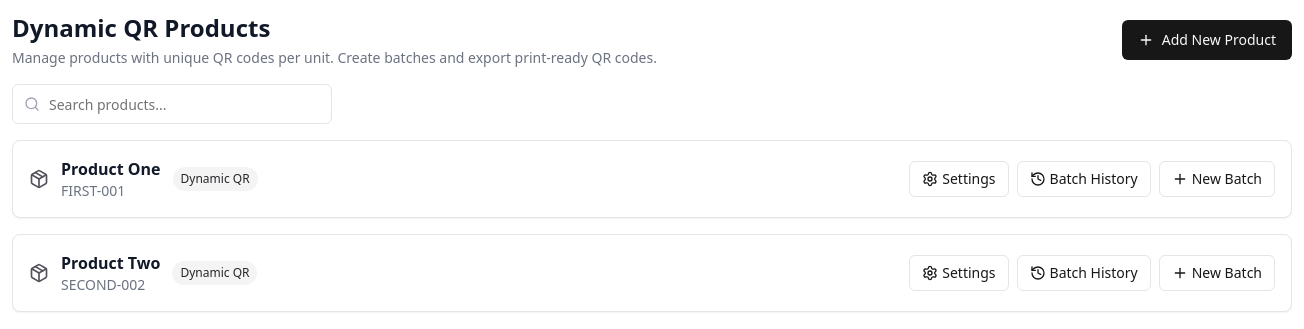
Test case: DynamicQRPage › Search › should filter products by code
// Type in search by code
In the field with placeholder "Search products...": (172, 104) top-left (12, 84), bottom-right (332, 124), type "SECOND"
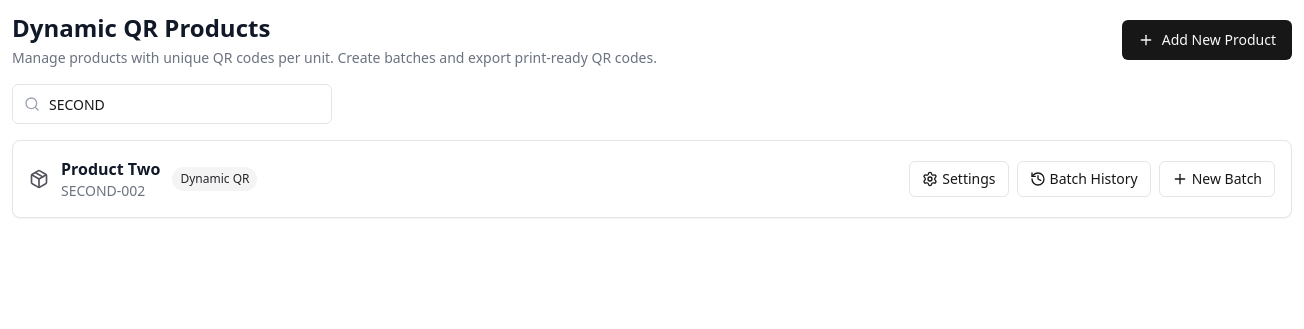
Expected: the text "Product Two" is shown, top-left (61, 157), bottom-right (160, 181)
Expected: the text "Product One" is gone
